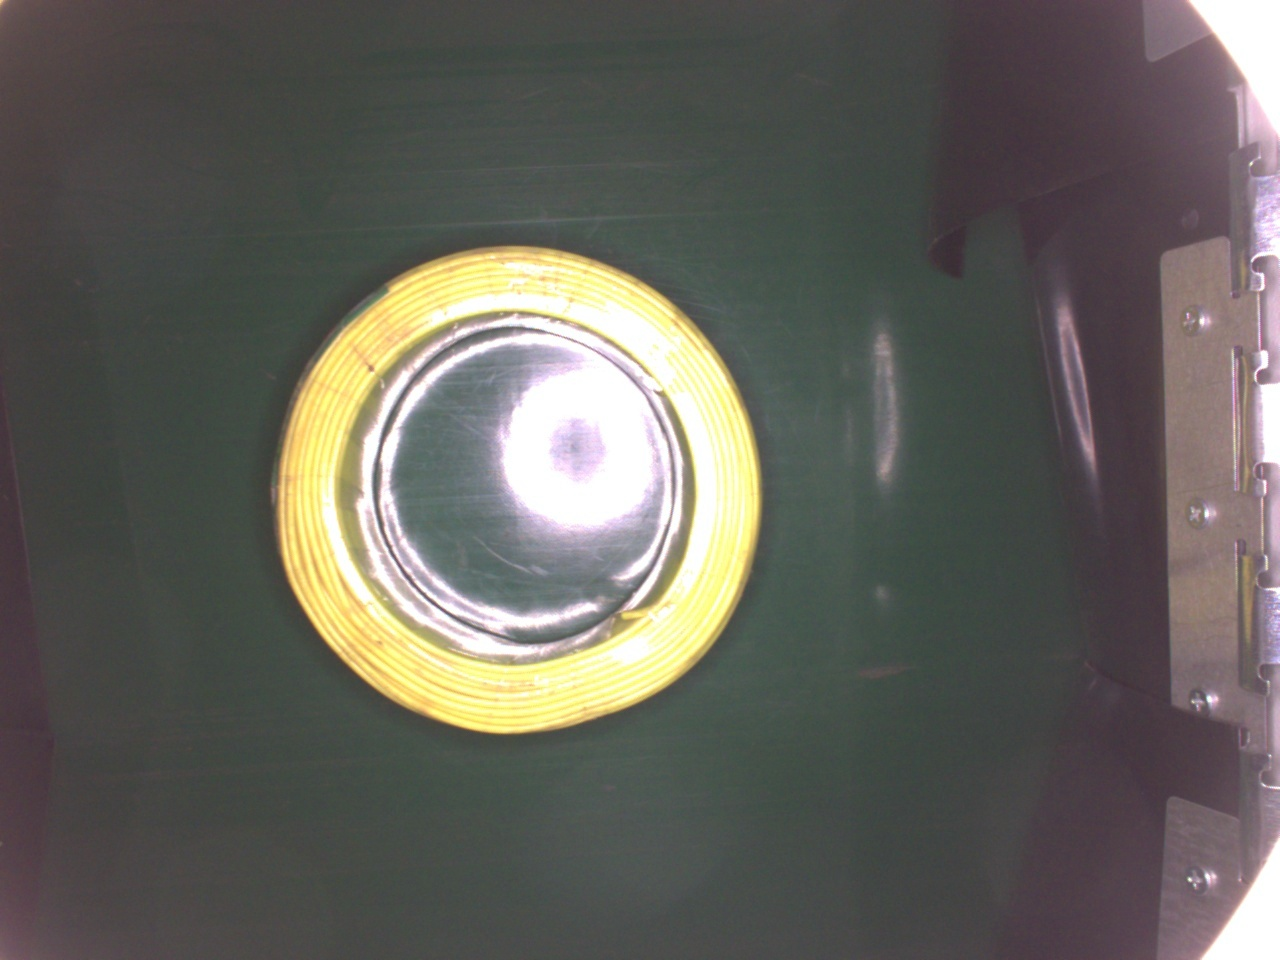yellow: (278, 243, 763, 729)
